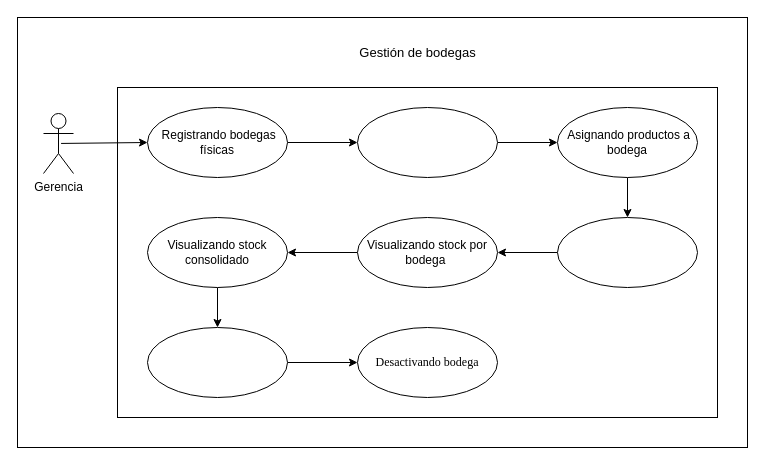
The diagram is 765 pixels wide and 465 high, and some of its shapes have lost their labels. Each missing label, with the box of its shape:
Editando datos de bodega: (146, 326, 288, 398)
Registrando traslado entre bodegas: (356, 106, 498, 178)
Subdividiendo ubicación interna por anaqueles: (556, 216, 698, 288)
